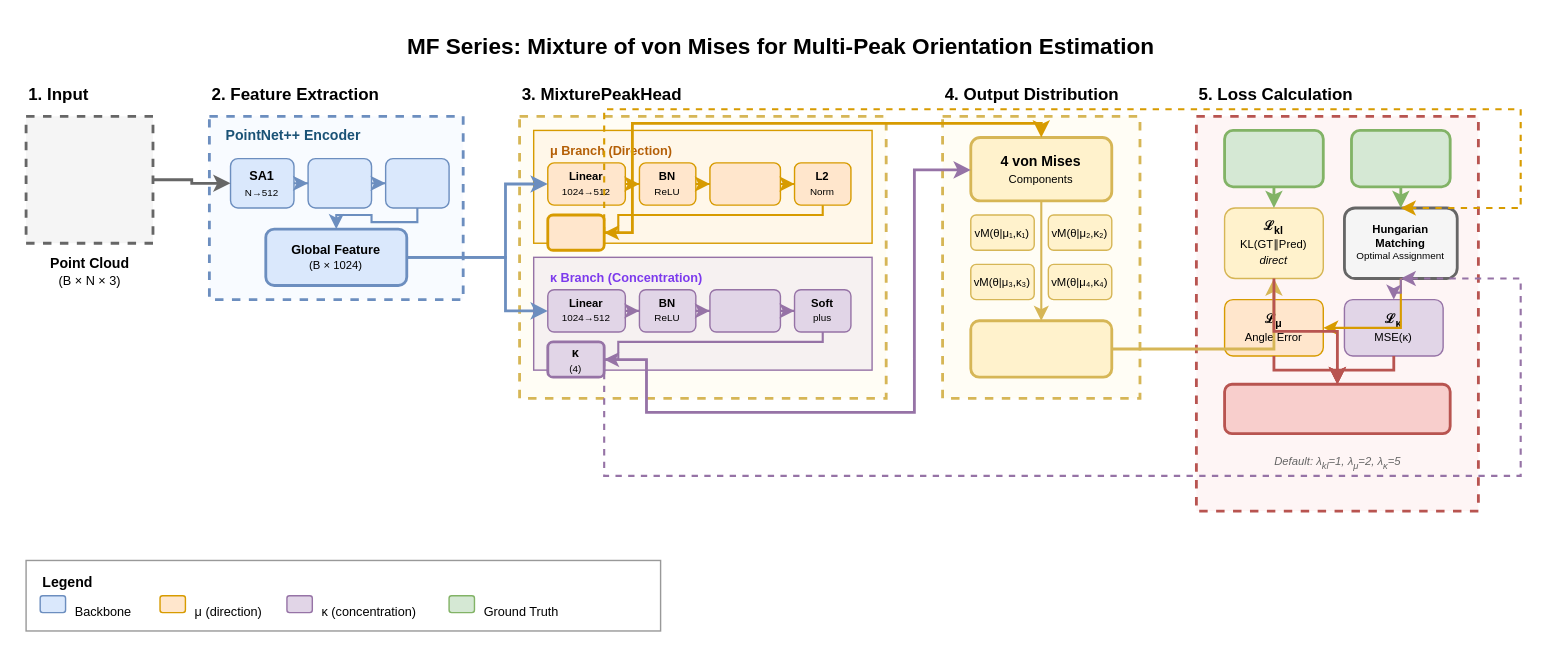
Some shapes in this 1557 by 656 pixel diagram are drawn without their labels. Each missing label, with the box of its shape:
GT (μ,κ) Annotations: (1349, 128, 1451, 188)
GT p(θ) Target Dist: (1222, 128, 1324, 188)
Linear 512→4: (709, 288, 780, 332)
Linear 512→8: (709, 161, 780, 205)
p(θ) = Σ vM Mixture Dist: (969, 319, 1112, 378)
SA2 512→128: (307, 157, 372, 208)
SA3 Global: (384, 157, 449, 208)
μ (4×2): (546, 213, 605, 251)
ℒ = λ kl ℒ kl + λ μ ℒ μ + λ κ ℒ κ: (1222, 382, 1451, 434)
